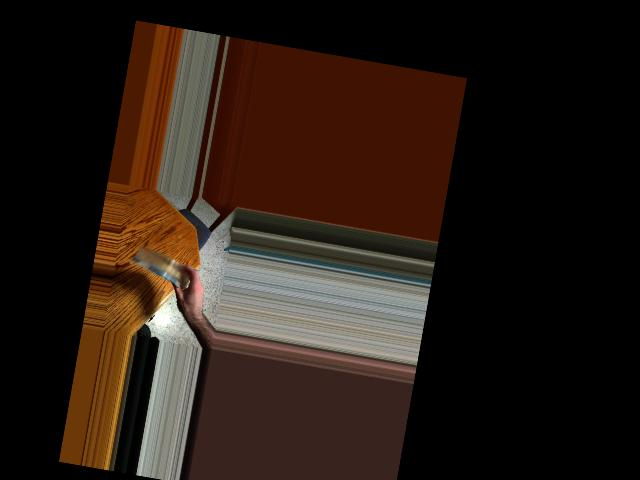cheese: (128, 248, 199, 284)
